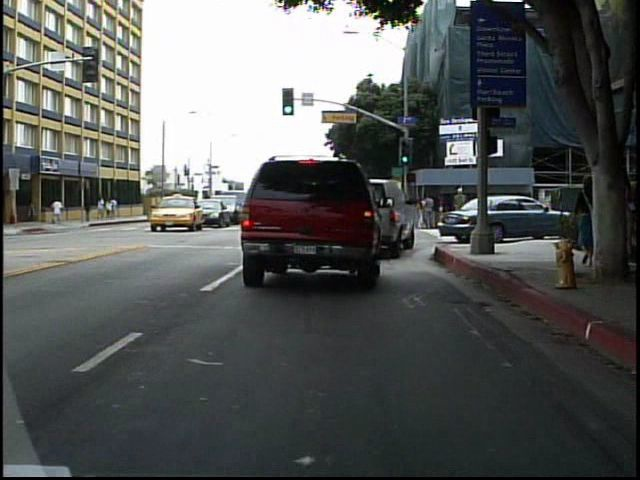person: (452, 183, 470, 229), (53, 195, 67, 227)
